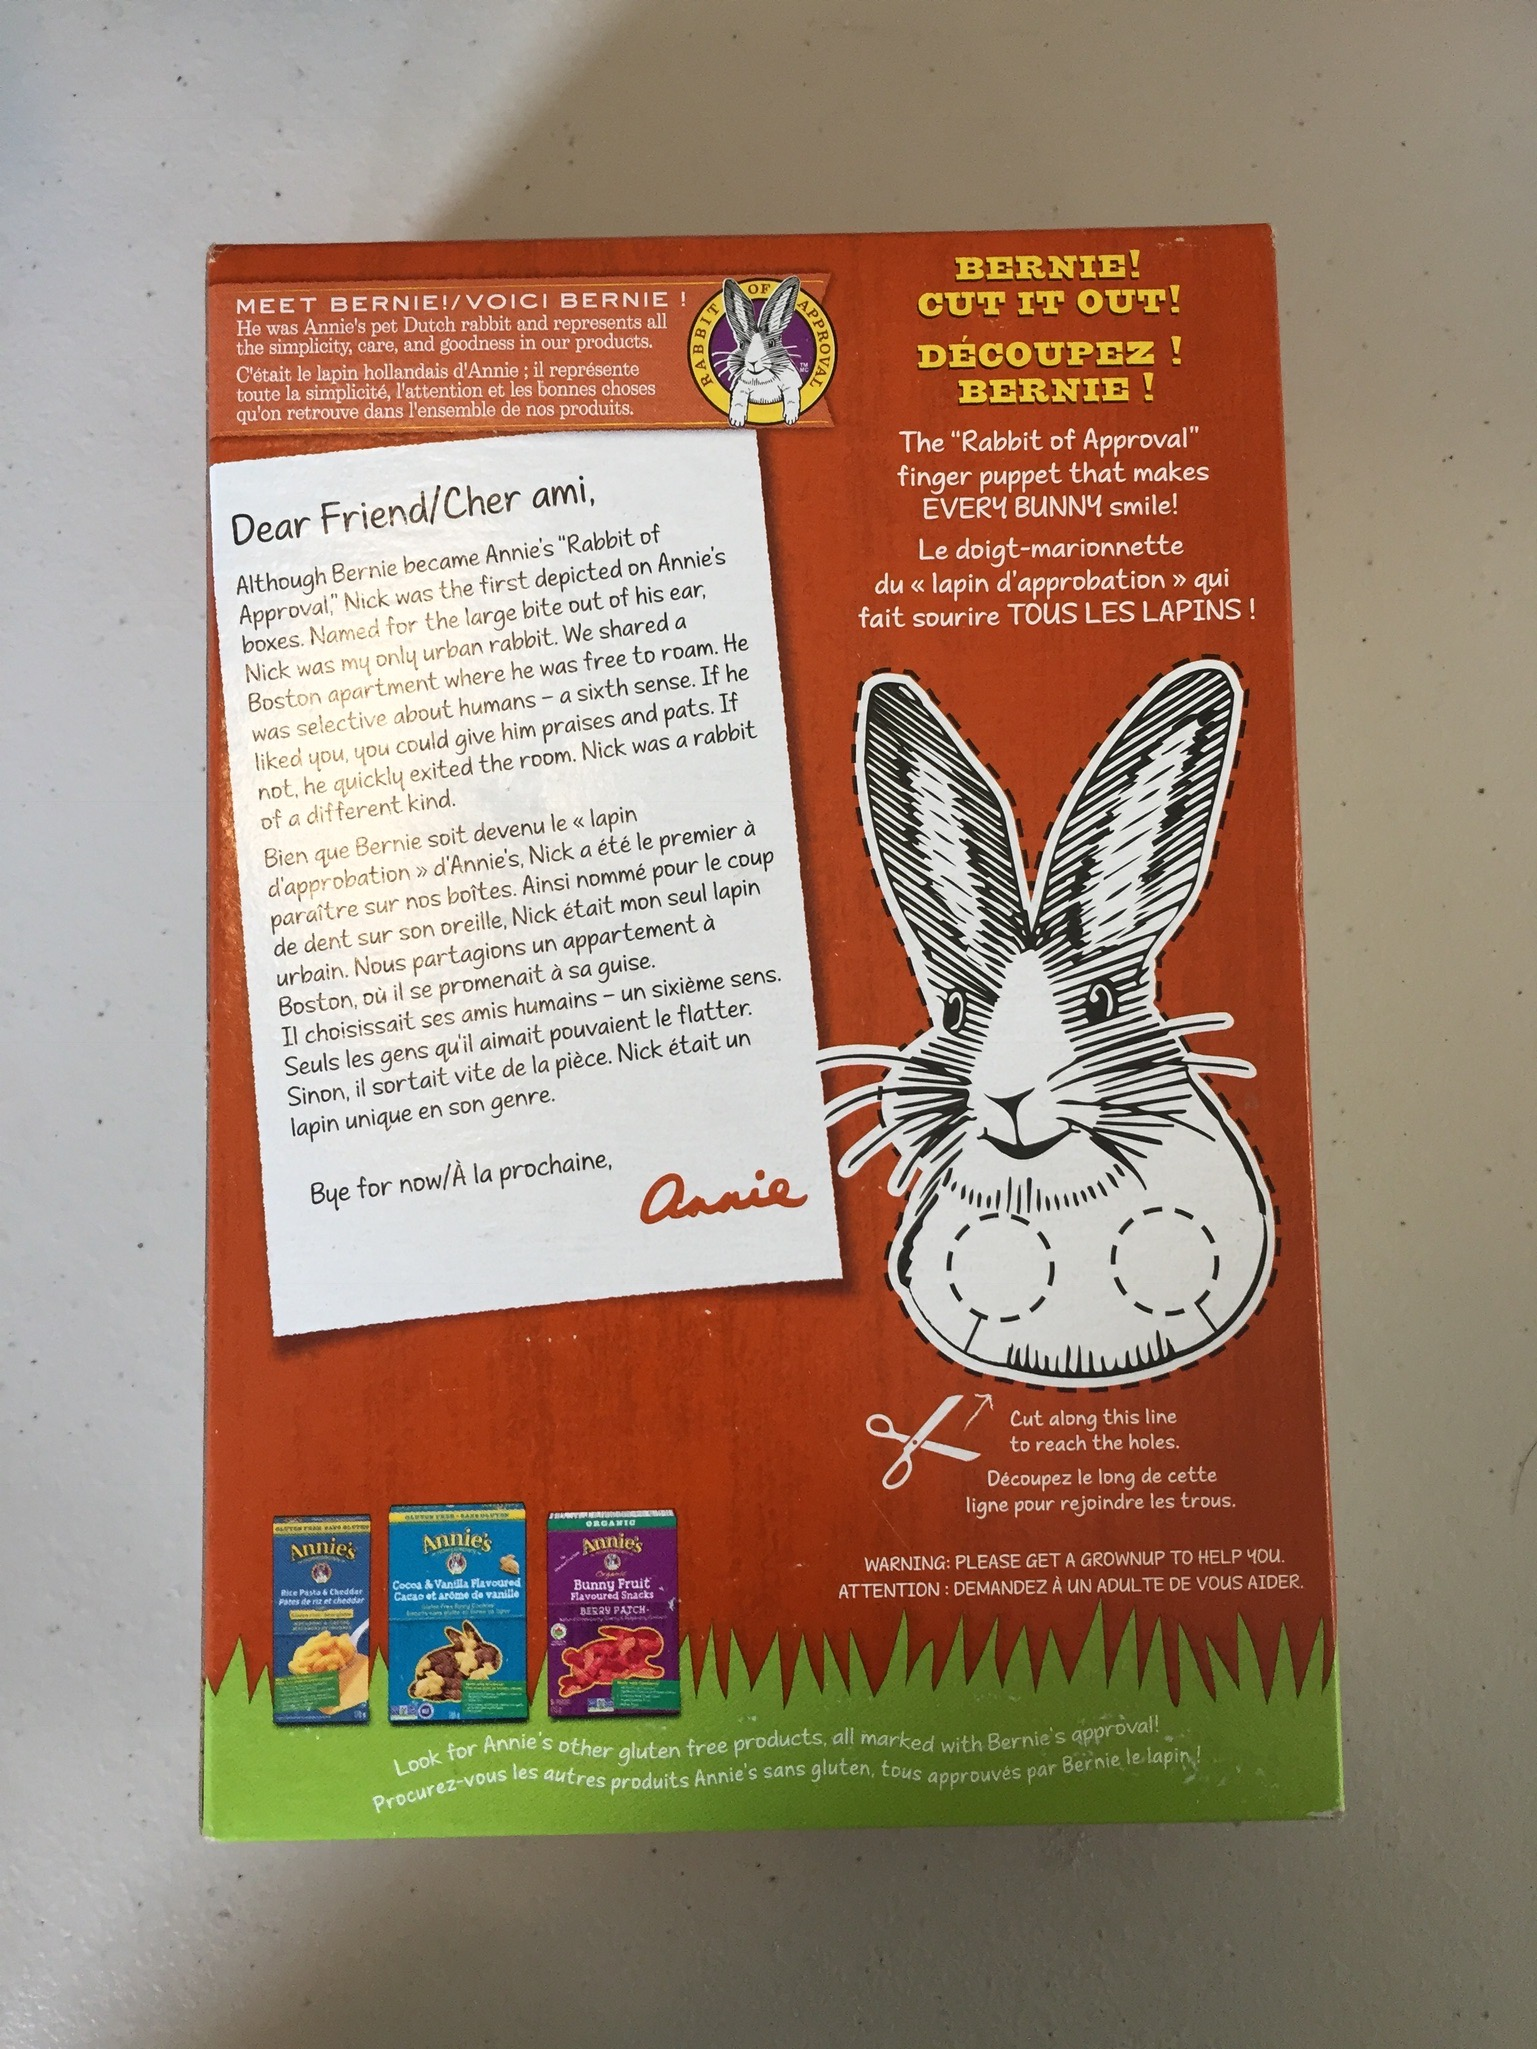annies_snickerdoodle_cinnamon_sugar: (215, 252, 1321, 1810)
